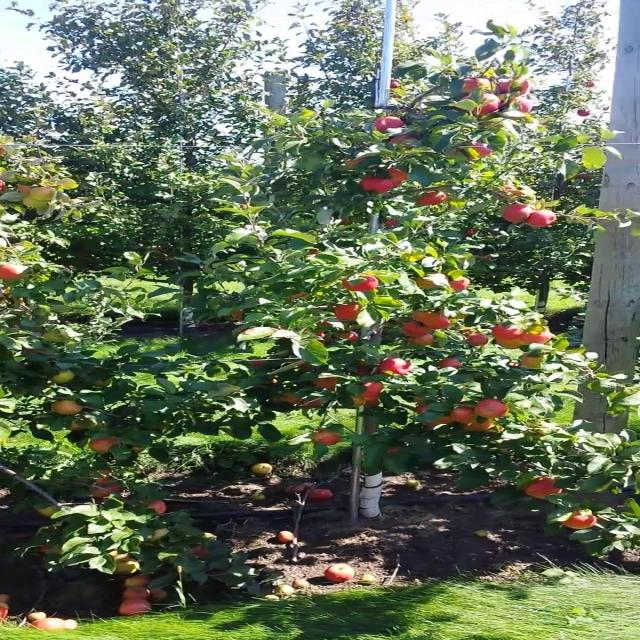apple: (525, 476, 565, 500), (561, 512, 597, 531), (340, 276, 380, 292), (92, 480, 124, 500), (504, 204, 533, 224), (476, 400, 510, 417), (476, 96, 503, 117), (525, 212, 560, 228), (383, 168, 411, 187), (497, 80, 532, 95), (333, 304, 363, 321), (490, 324, 524, 339), (362, 180, 393, 195), (383, 360, 412, 376), (376, 116, 405, 132), (56, 400, 85, 416), (419, 192, 448, 208), (404, 320, 432, 336), (497, 184, 526, 199), (461, 420, 496, 432), (312, 432, 341, 446), (419, 276, 446, 291), (426, 316, 453, 330), (92, 440, 121, 453), (148, 500, 171, 516), (468, 332, 492, 347), (454, 408, 476, 424), (28, 188, 57, 200), (426, 416, 455, 428), (468, 144, 491, 159), (461, 80, 487, 93), (525, 332, 553, 344), (362, 388, 384, 403), (412, 312, 439, 324), (49, 372, 76, 384), (20, 200, 52, 210), (348, 156, 372, 169), (355, 396, 382, 407), (362, 384, 384, 397), (511, 100, 533, 113), (525, 356, 546, 369), (6, 264, 23, 280), (390, 136, 420, 145), (312, 380, 341, 389), (340, 332, 363, 343), (255, 464, 276, 476), (497, 340, 524, 349), (412, 336, 434, 347), (191, 548, 213, 559), (284, 392, 304, 404), (355, 364, 375, 376), (518, 100, 533, 113), (454, 280, 469, 292), (440, 360, 462, 368), (305, 400, 325, 408), (20, 184, 32, 196), (383, 220, 400, 228), (42, 508, 57, 517), (70, 424, 84, 432), (390, 448, 402, 456), (419, 404, 428, 413), (255, 360, 265, 368), (234, 312, 244, 320)
